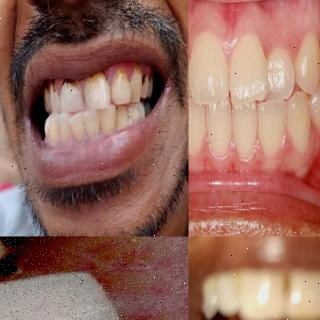Gum Swelling: (188, 19, 277, 69), (188, 132, 293, 171)
cavities: (0, 237, 55, 299)
maligned: (230, 33, 272, 98), (258, 98, 287, 154), (265, 45, 293, 97), (68, 110, 84, 138)
plaque: (81, 123, 91, 137), (113, 118, 123, 132), (127, 114, 135, 130)
stains: (88, 66, 110, 88), (114, 63, 130, 93), (62, 74, 80, 92), (50, 76, 60, 102), (132, 61, 144, 81), (137, 71, 149, 89), (42, 79, 52, 100)
